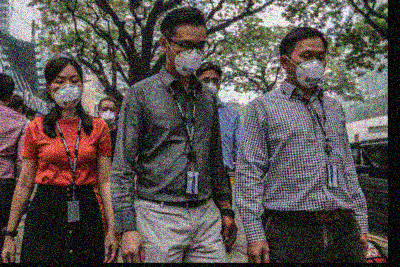with_mask: (169, 36, 208, 78), (289, 48, 328, 89), (52, 73, 84, 109), (199, 74, 220, 95), (98, 104, 117, 125)
